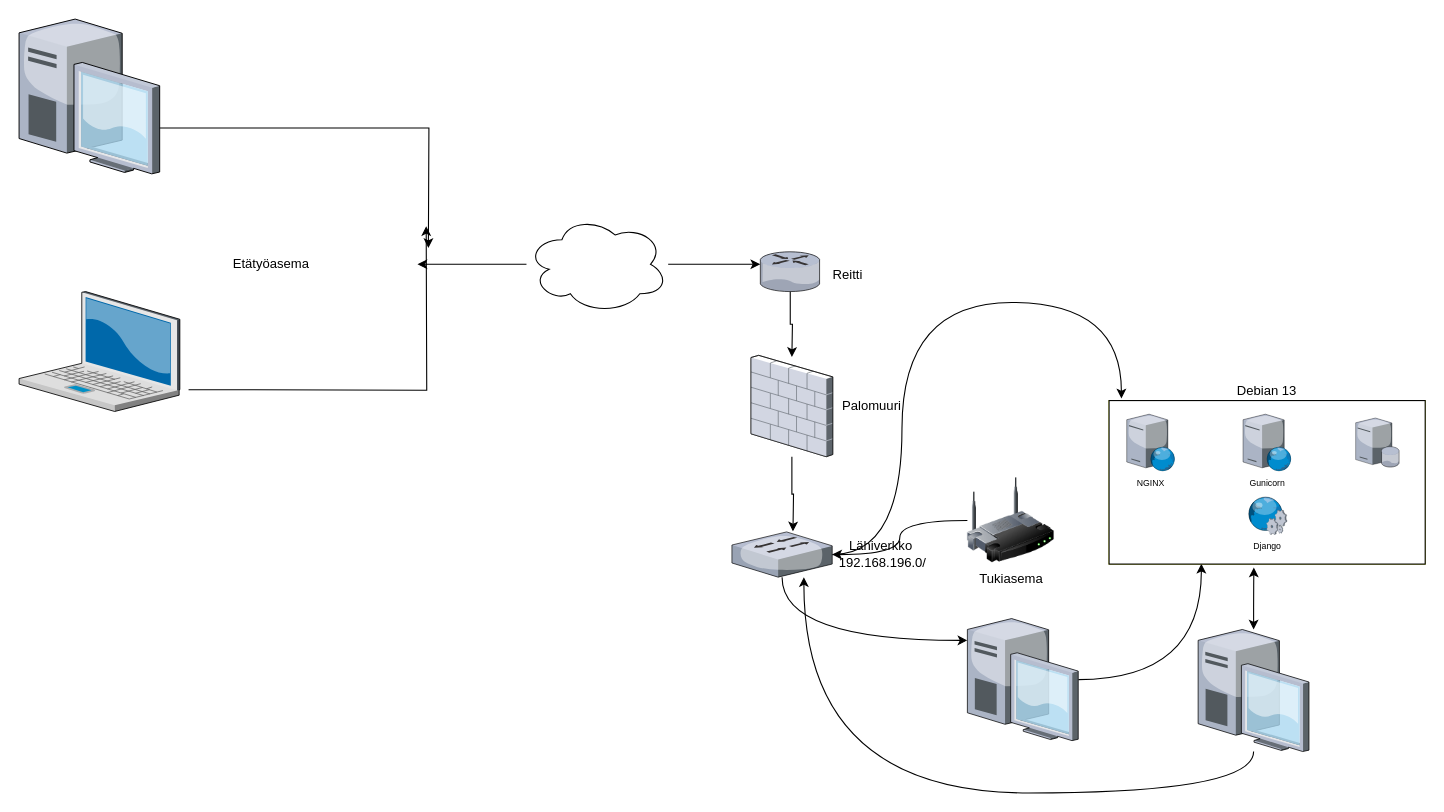
Image size: 1444x812. Some labels were removed from this diagram. The shapes that lost their labels are listed below. From the top down, each one's centre as x and y in pixels, then its label:
[596,263]: Internet
[1377,442]: PostgreSQL 13
